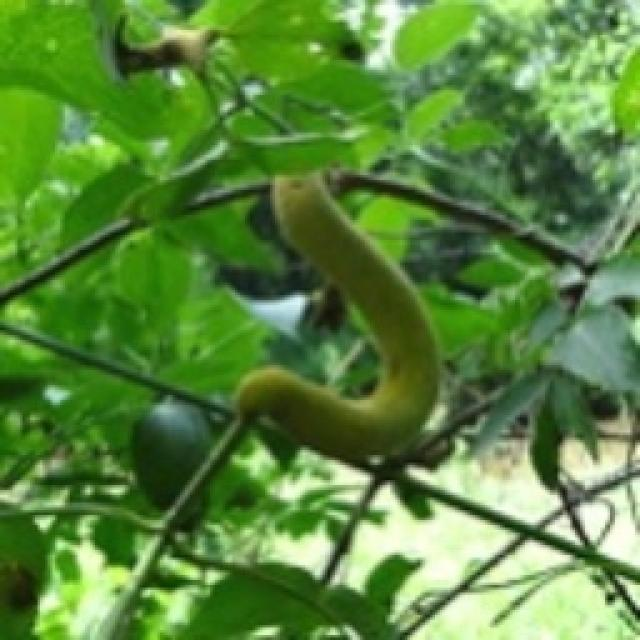Elderberry_rust: (230, 167, 442, 465), (128, 395, 218, 525)
